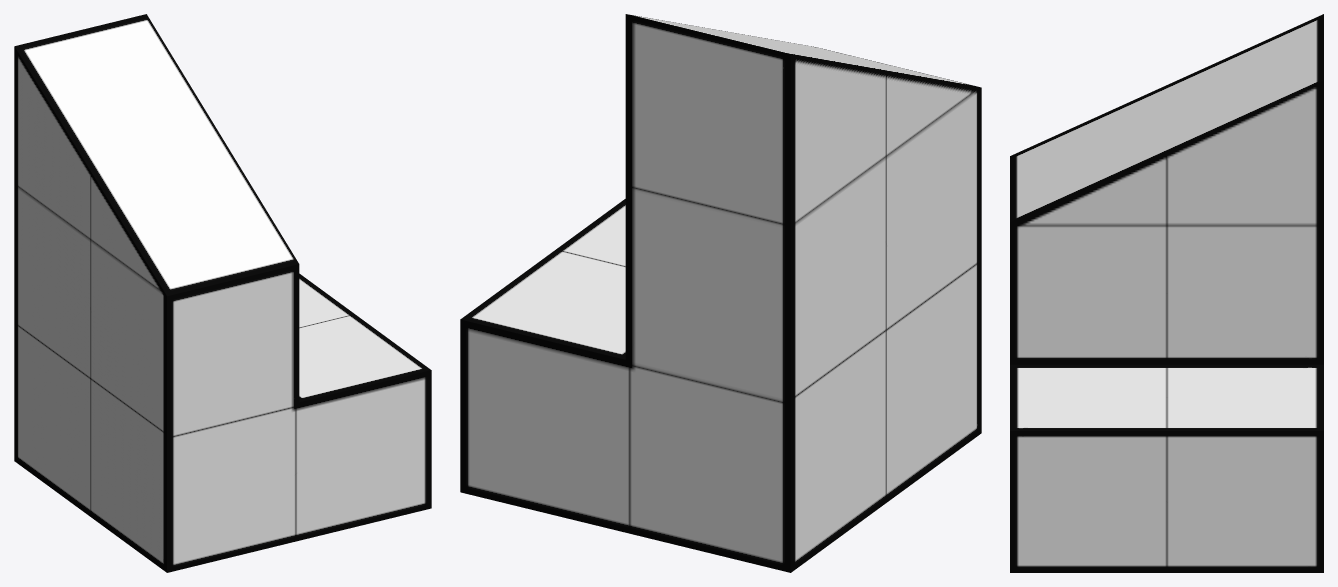
File: fig3.glb
The picture shows the model from 3 angles, left to right: view 1: azimuth 30°, elevation 25°; view 2: azimuth 150°, elevation 25°; view 3: azimuth 270°, elevation 25°; orthographic projection. The views are drawn at different scales.
Visible parts, largest first — view 1: root; view 2: root; view 3: root.
Boxes of the visible parts, bbox=[...] form: root: bbox=[14, 14, 431, 572]; root: bbox=[460, 14, 981, 572]; root: bbox=[1010, 14, 1323, 572].
Bounding box in the file's own units: 0.02 × 0.03 × 0.02.
Materials: 8 (8 with a texture image).
